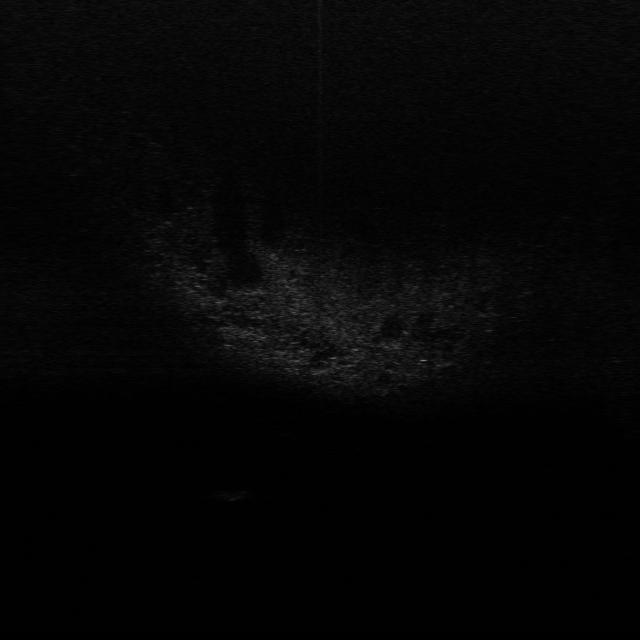cube: (210, 488, 252, 503)
